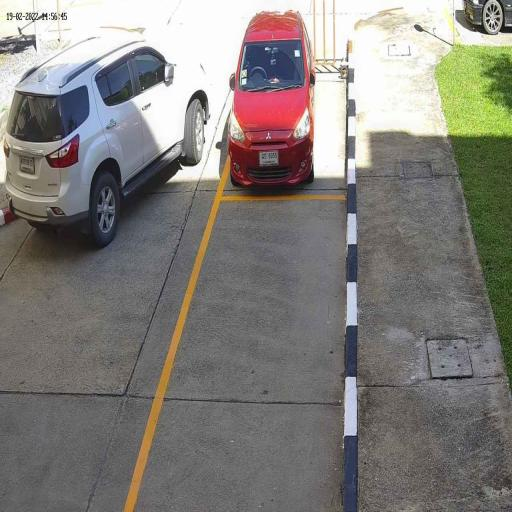car: (3, 34, 212, 248), (227, 9, 316, 189)
